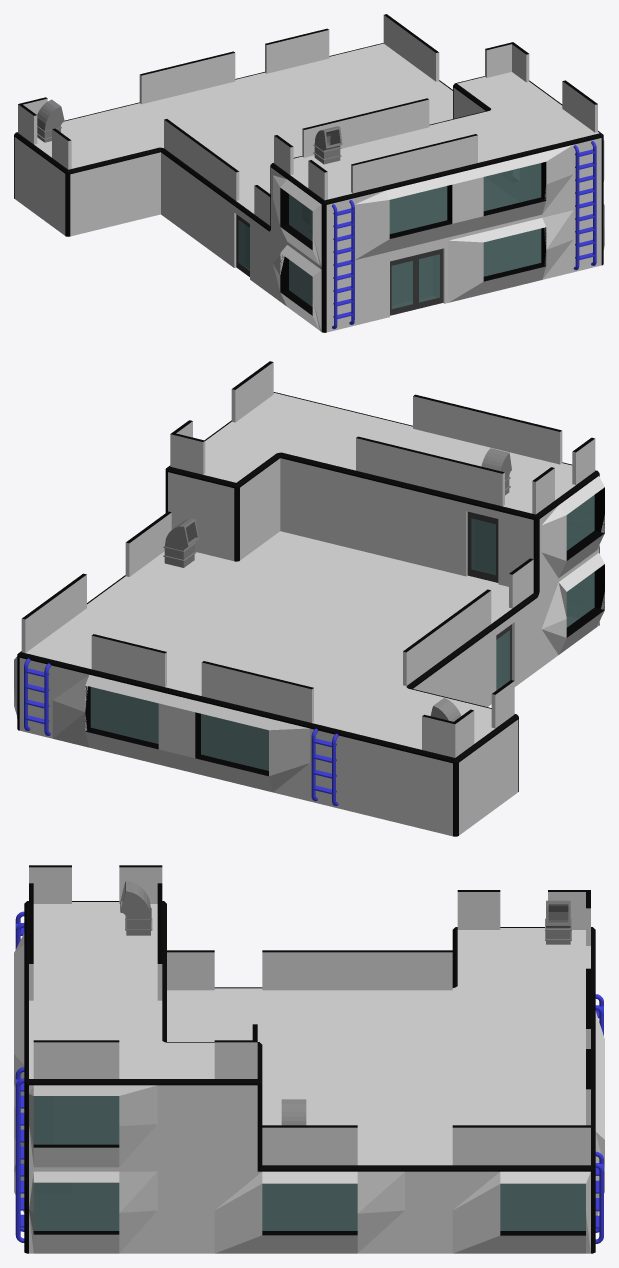
The model's file is buiding-2.fbx.
3 views of the same model, one above another, from view 1: azimuth 30°, elevation 25°; view 2: azimuth 150°, elevation 25°; view 3: azimuth 270°, elevation 25° (orthographic). The views are drawn at different scales.
Parts seen in each view (by area): view 1: pCube28; view 2: pCube28; view 3: pCube28.
Boxes of the visible parts, x1,y1,x2,y2 form: pCube28: (14,14,604,332); pCube28: (14,361,604,836); pCube28: (14,865,604,1253).
Bounding box in the file's own units: 12.17 × 5.03 × 12.41.
